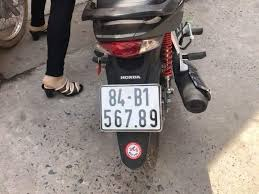number-plate: (101, 86, 162, 130)
